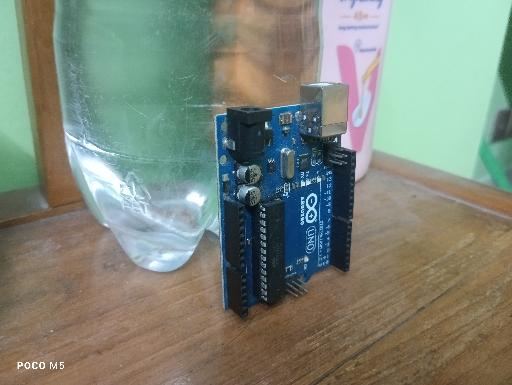Arduino: (213, 80, 357, 320)
